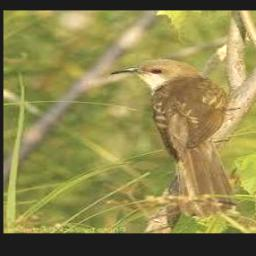Cuckoo: (111, 58, 240, 218)
